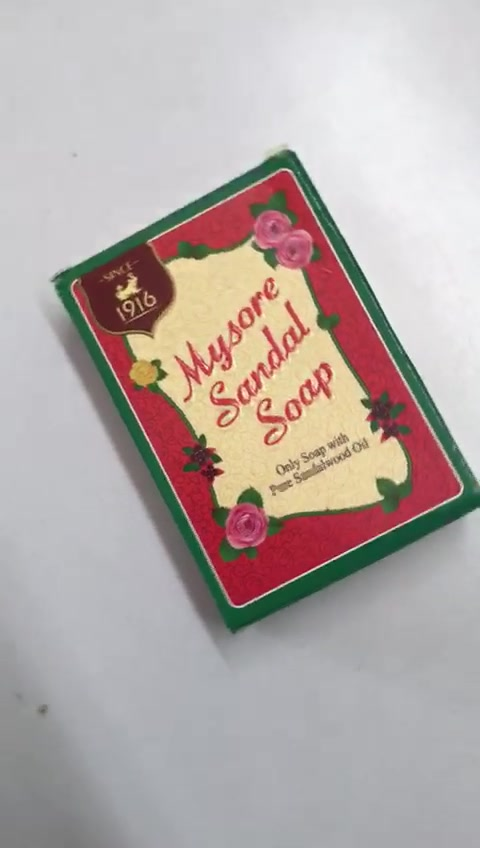mysoresandalsoap: (48, 151, 479, 635)
